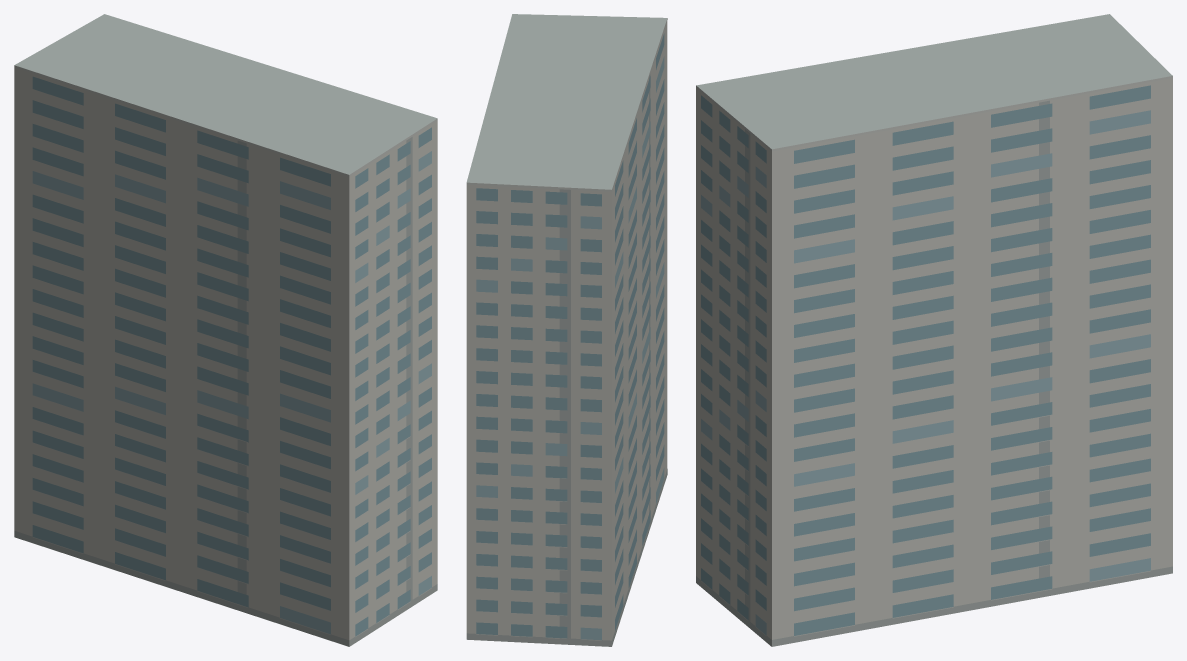
The model's file is residential-5fe01597-3b5b-4df6-b1ac-1149706f14b4.glb.
The picture shows the model from 3 angles, left to right: view 1: azimuth 30°, elevation 25°; view 2: azimuth 150°, elevation 25°; view 3: azimuth 270°, elevation 25°; orthographic projection. The views are drawn at different scales.
Parts seen in each view (by area): view 1: residential-5fe01597-3b5b-4df6-b1ac-1149706f14b4.tmp; view 2: residential-5fe01597-3b5b-4df6-b1ac-1149706f14b4.tmp; view 3: residential-5fe01597-3b5b-4df6-b1ac-1149706f14b4.tmp.
Part boxes in pixels (bbox=[...]): residential-5fe01597-3b5b-4df6-b1ac-1149706f14b4.tmp: bbox=[14, 14, 437, 646]; residential-5fe01597-3b5b-4df6-b1ac-1149706f14b4.tmp: bbox=[466, 14, 667, 646]; residential-5fe01597-3b5b-4df6-b1ac-1149706f14b4.tmp: bbox=[696, 14, 1172, 646].
Size of the model in its own units: 31.51 by 54 by 46.9.
